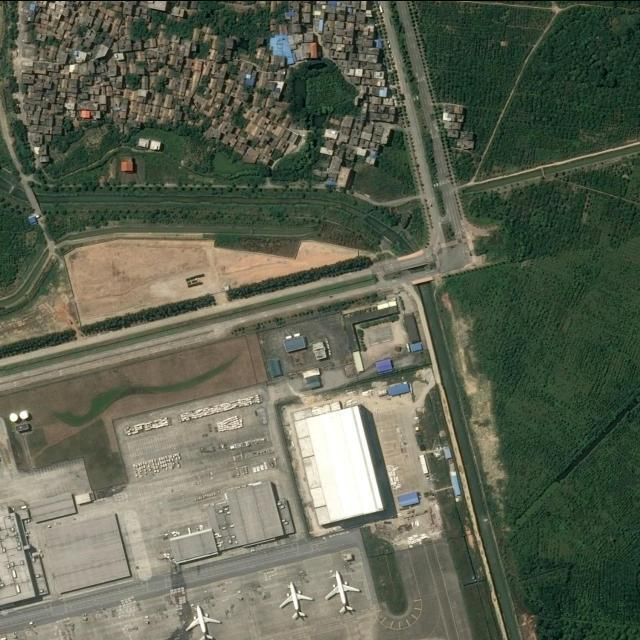Aircraft: (326, 570, 362, 617), (280, 581, 315, 621), (186, 605, 223, 640)
